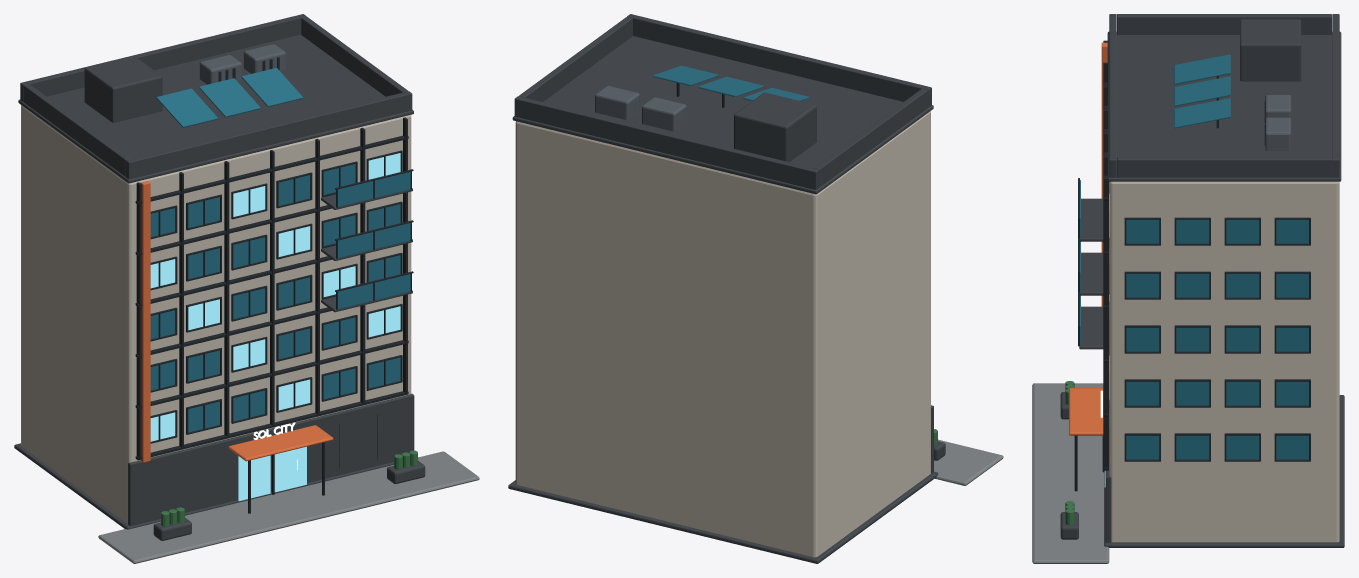
Rendered from SM_SolCity_MidRise_01.fbx.
The picture shows the model from 3 angles, left to right: view 1: azimuth 30°, elevation 25°; view 2: azimuth 150°, elevation 25°; view 3: azimuth 270°, elevation 25°; orthographic projection. The views are drawn at different scales.
Parts seen in each view (by area): view 1: Building_Core, Roof_Cap, Ground_Floor_Band, Sidewalk, Parapet_Front, Parapet_Back, Roof_Access, Accent_Spine, Parapet_West, Parapet_East, Entry_Canopy, Facade_Fin_-2.88 (+55 smaller); view 2: Building_Core, Roof_Cap, Parapet_Back, Parapet_Front, Roof_Access, Foundation, Parapet_West, Parapet_East, Sidewalk, HVAC_1, HVAC_2, Solar_Panel_2 (+1 smaller); view 3: Building_Core, Roof_Cap, Sidewalk, Parapet_East, Roof_Access, Parapet_West, Foundation, Facade_Fin_+8.45, Entry_Canopy, Parapet_Back, Parapet_Front, Solar_Panel_1 (+30 smaller).
Part boxes in pixels (x1=…): Building_Core: x1=21, y1=105, x2=411, y2=523; Roof_Cap: x1=18, y1=34, x2=413, y2=183; Ground_Floor_Band: x1=128, y1=393, x2=414, y2=526; Sidewalk: x1=98, y1=451, x2=479, y2=563; Parapet_Front: x1=125, y1=91, x2=412, y2=179; Parapet_Back: x1=20, y1=14, x2=306, y2=102; Roof_Access: x1=84, y1=56, x2=162, y2=122; Accent_Spine: x1=140, y1=181, x2=150, y2=462; Parapet_West: x1=24, y1=84, x2=130, y2=176; Parapet_East: x1=301, y1=16, x2=407, y2=96; Entry_Canopy: x1=228, y1=425, x2=333, y2=461; Facade_Fin_-2.88: x1=224, y1=161, x2=229, y2=438; Building_Core: x1=515, y1=111, x2=930, y2=557; Roof_Cap: x1=512, y1=36, x2=933, y2=194; Parapet_Back: x1=514, y1=96, x2=819, y2=189; Parapet_Front: x1=627, y1=14, x2=931, y2=107; Roof_Access: x1=734, y1=92, x2=816, y2=162; Foundation: x1=508, y1=471, x2=938, y2=563; Parapet_West: x1=814, y1=88, x2=927, y2=186; Parapet_East: x1=519, y1=17, x2=632, y2=101; Sidewalk: x1=934, y1=439, x2=1003, y2=485; HVAC_1: x1=642, y1=97, x2=686, y2=131; HVAC_2: x1=595, y1=85, x2=639, y2=119; Solar_Panel_2: x1=698, y1=76, x2=763, y2=96; Building_Core: x1=1109, y1=181, x2=1339, y2=542; Roof_Cap: x1=1107, y1=31, x2=1341, y2=181; Sidewalk: x1=1032, y1=383, x2=1109, y2=563; Parapet_East: x1=1117, y1=157, x2=1331, y2=177; Roof_Access: x1=1240, y1=19, x2=1301, y2=81; Parapet_West: x1=1117, y1=14, x2=1331, y2=34; Foundation: x1=1104, y1=395, x2=1344, y2=547; Facade_Fin_+8.45: x1=1103, y1=178, x2=1108, y2=469; Entry_Canopy: x1=1069, y1=388, x2=1103, y2=435; Parapet_Back: x1=1332, y1=14, x2=1339, y2=177; Parapet_Front: x1=1109, y1=14, x2=1116, y2=177; Solar_Panel_1: x1=1174, y1=54, x2=1230, y2=84.
Size of the model in its own units: 22 by 16.25 by 23.41.
